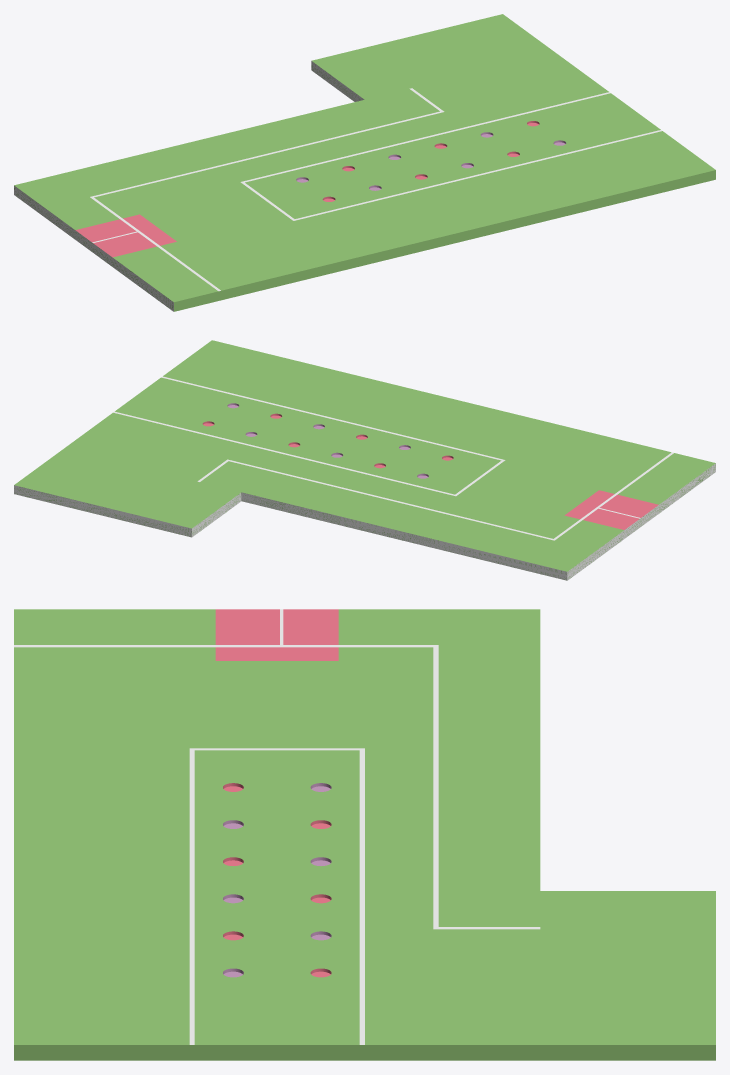
3 renders of one model, top to bottom at view 1: azimuth 30°, elevation 25°; view 2: azimuth 150°, elevation 25°; view 3: azimuth 270°, elevation 25°, orthographic. The views are drawn at different scales.
Visible parts, largest first — view 1: instance_0, instance_0.014, instance_0.001, instance_0.012, instance_0.015, instance_0.017; view 2: instance_0, instance_0.014, instance_0.001, instance_0.012, instance_0.015, instance_0.017; view 3: instance_0, instance_0.014, instance_0.001, instance_0.012, instance_0.015, instance_0.017.
Part boxes in pixels (x1,y1,x2,y2): instance_0: (14,14,715,311); instance_0.014: (240,92,661,220); instance_0.001: (90,88,444,291); instance_0.012: (93,232,156,257); instance_0.015: (75,219,136,242); instance_0.017: (123,214,176,245); instance_0: (14,340,715,580); instance_0.014: (113,376,505,496); instance_0.001: (197,452,673,540); instance_0.012: (599,494,658,517); instance_0.015: (583,508,639,529); instance_0.017: (564,490,614,519); instance_0: (14,609,715,1060); instance_0.014: (189,748,364,1044); instance_0.001: (14,609,540,929); instance_0.012: (215,609,279,644); instance_0.015: (283,609,338,644); instance_0.017: (215,647,338,660).
Size of the model in its own units: 5.87 by 4 by 0.1.
